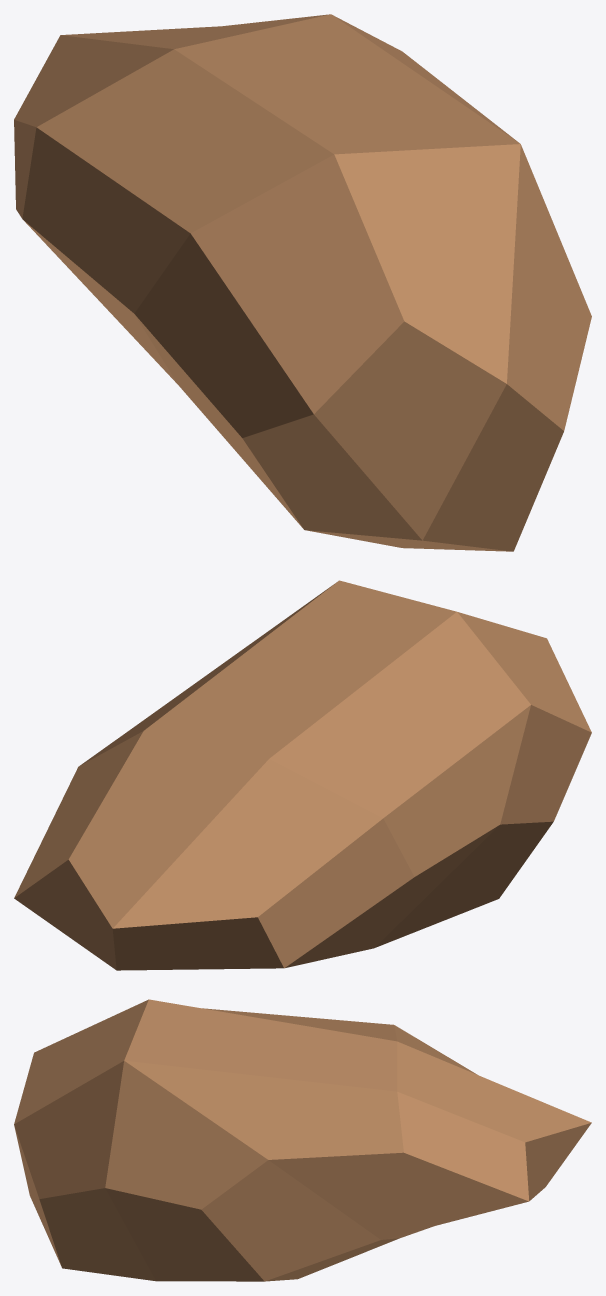
File: rock2.fbx
3 views of the same model, one above another, from view 1: azimuth 30°, elevation 25°; view 2: azimuth 150°, elevation 25°; view 3: azimuth 270°, elevation 25° (orthographic). The views are drawn at different scales.
Parts seen in each view (by area): view 1: Cube; view 2: Cube; view 3: Cube.
Part boxes in pixels (left/top/right/bottom): Cube: left=14, top=14, right=591, bottom=551; Cube: left=14, top=580, right=591, bottom=970; Cube: left=14, top=999, right=591, bottom=1281.
Size of the model in its own units: 303 by 288 by 599.
